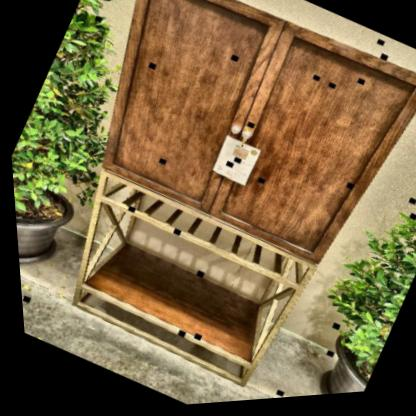Sideboard: (67, 0, 416, 390)
